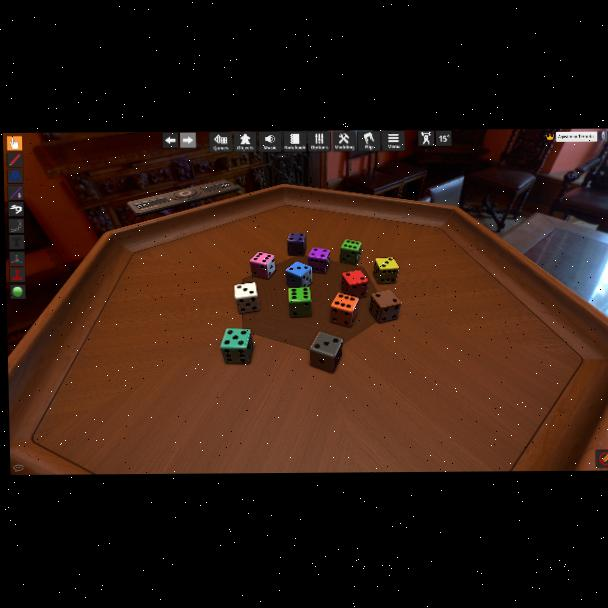d6: (308, 333, 340, 373), (220, 328, 254, 365), (371, 290, 403, 324), (330, 292, 358, 327), (234, 283, 260, 314), (340, 270, 367, 299), (288, 287, 312, 318), (249, 252, 275, 280), (373, 258, 399, 285), (285, 261, 311, 288), (307, 247, 329, 274), (339, 240, 360, 267), (286, 233, 305, 256)
